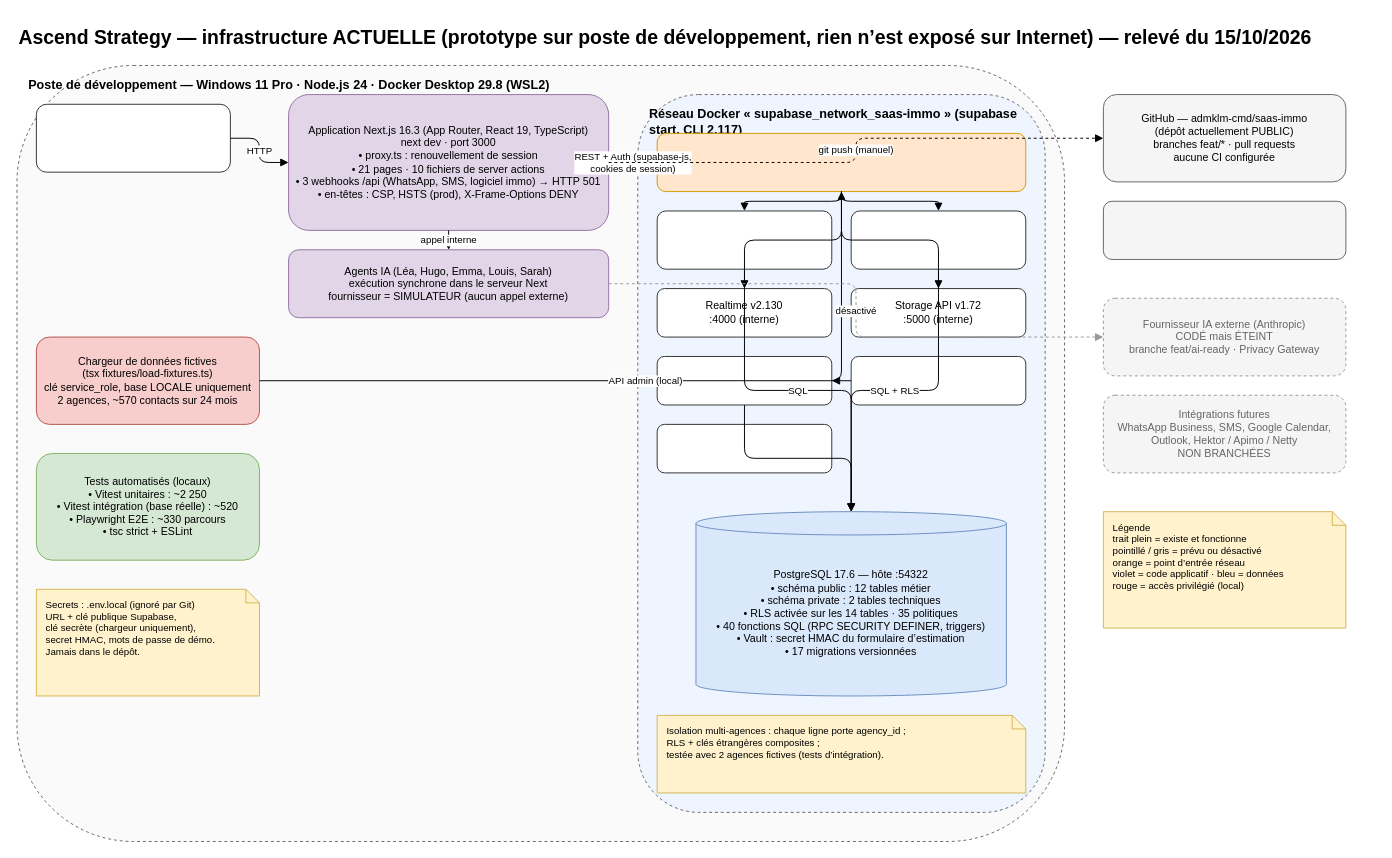
The diagram is 1392 pixels wide and 858 high, and some of its shapes have lost their labels. The shapes that lost their labels are listed below. From the top down, each one's box as (x1, y1, x2, y2) in pixels, then its label:
(35, 103, 230, 172): Navigateur (Chromium) http://127.0.0.1:3000 (utilisateur ou Playwright)
(656, 132, 1026, 192): Kong 2.8 — passerelle API hôte :54321 → conteneur :8000
(656, 210, 832, 269): GoTrue v2.196 (Auth) :9999 · mot de passe ≥ 12 car. MFA désactivé (local)
(850, 210, 1026, 269): PostgREST v16.2 :3000 (interne) max 1000 lignes/requête
(1102, 200, 1346, 259): Coffre Obsidian (disque D:) notes de contexte et décisions
(656, 356, 832, 405): postgres-meta v0.99 :8080 (interne)
(850, 356, 1026, 405): Studio (admin web) hôte :54323
(656, 423, 832, 473): Mailpit (SMTP de test) hôte :54324 · aucun envoi réel
